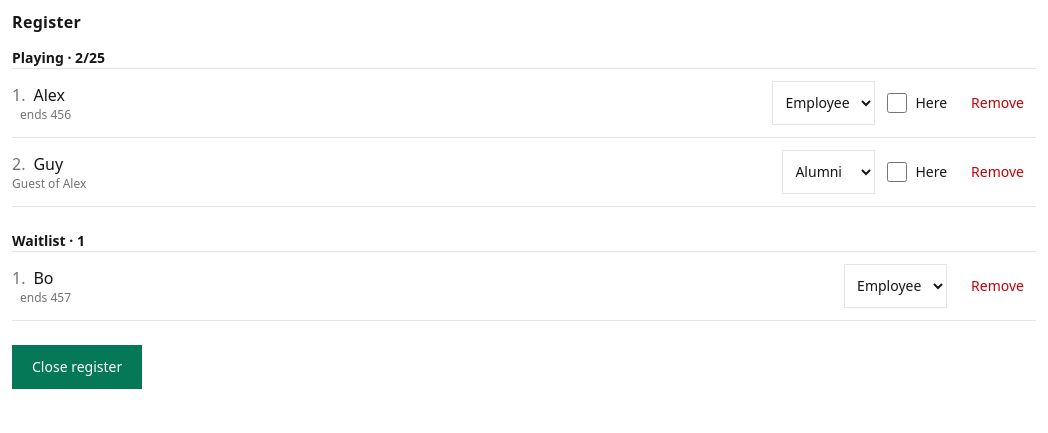
it: closing the register › shows a refusal instead of a dialog
The width and height of the screenshot is (1048, 433).
Click the button "Close register".
click(77, 367)  # box 12,345 -> 142,389
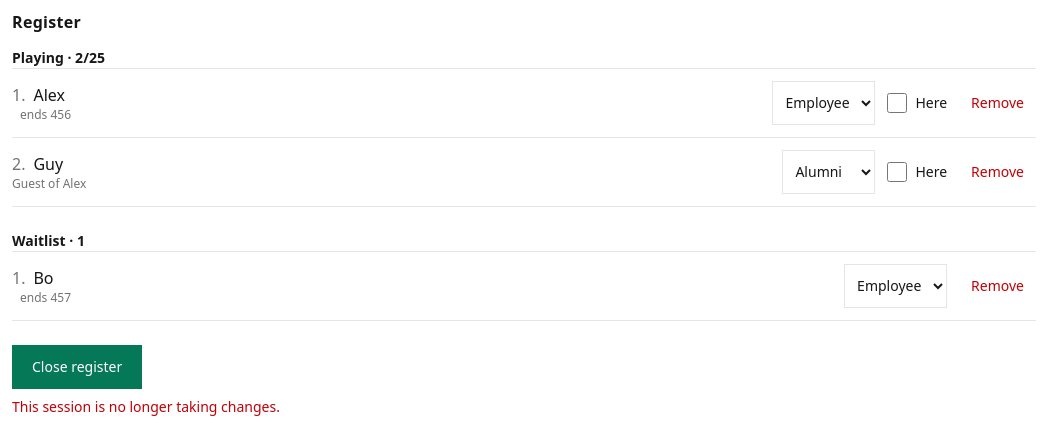
Expected: the message shows "no longer taking changes", 12,397 -> 280,416
